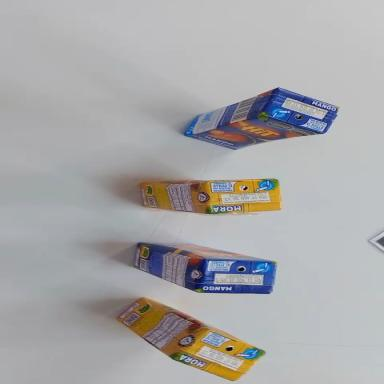HIT-MANGO: (180, 78, 342, 158), (131, 237, 278, 303)
HIT-MORA: (112, 291, 266, 384), (140, 177, 281, 216)
cara_F: (187, 105, 324, 157), (138, 238, 274, 268)
